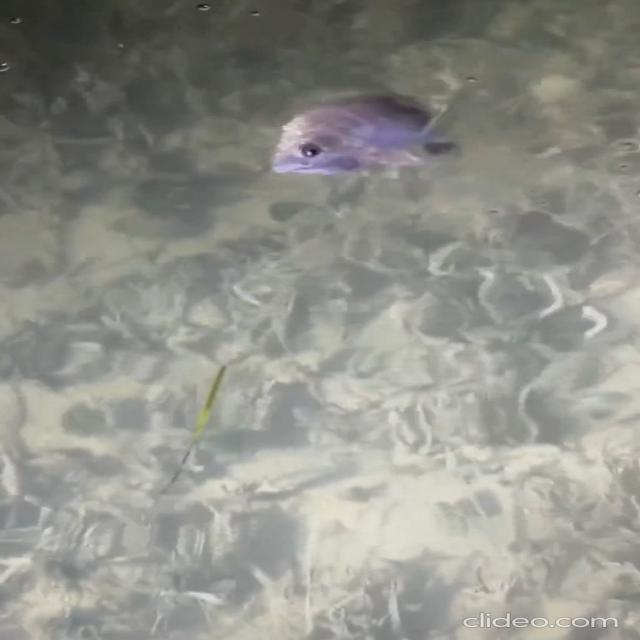fish: (204, 91, 486, 204)
